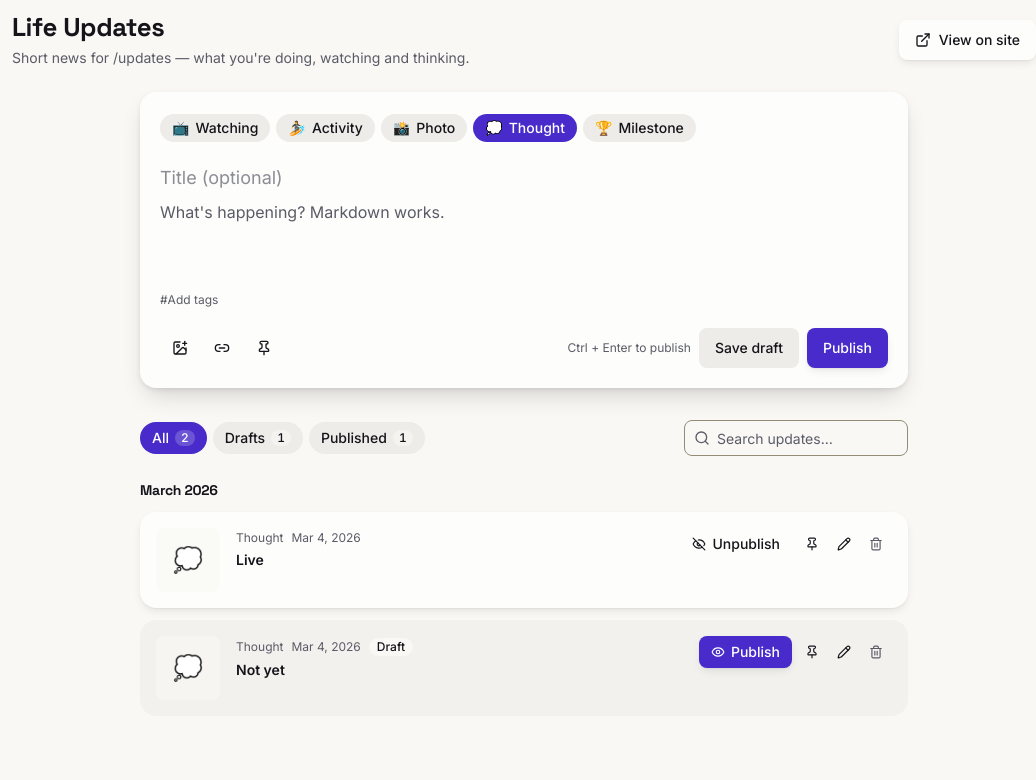
LifeUpdatesPage › filters to drafts with the count on the chip
Click the button "Drafts 1" at (258, 438), box [213,422,303,454]
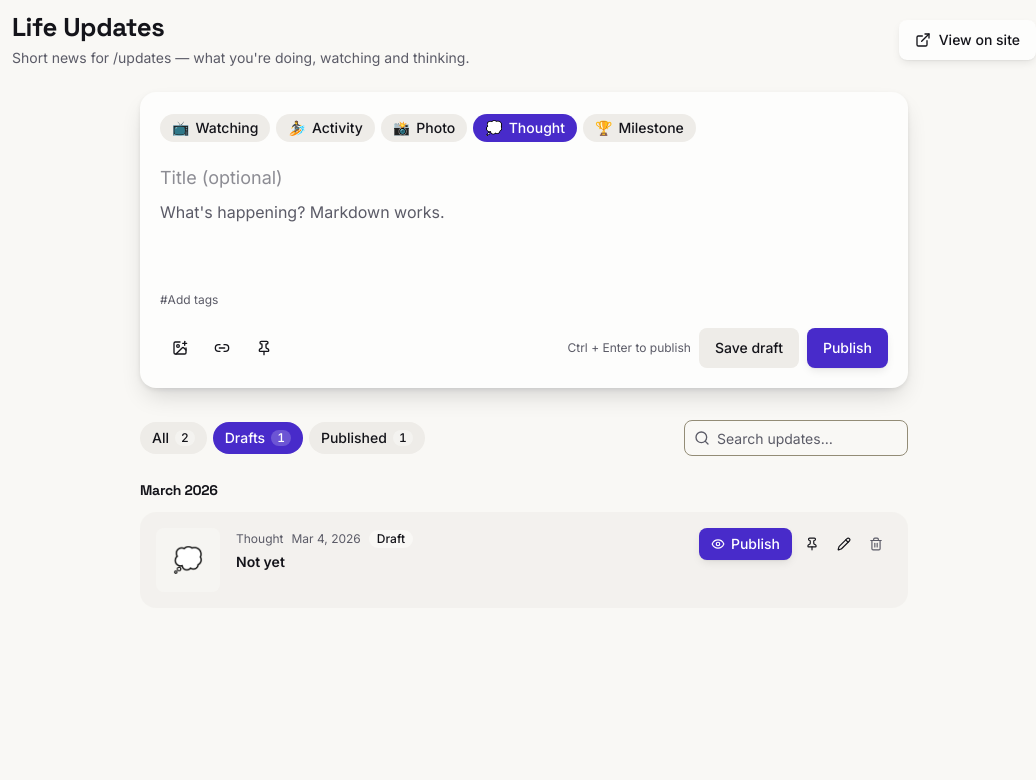
Expected: the text "Not yet" is shown, [236,553,285,570]
Now the button "Live" is gone
